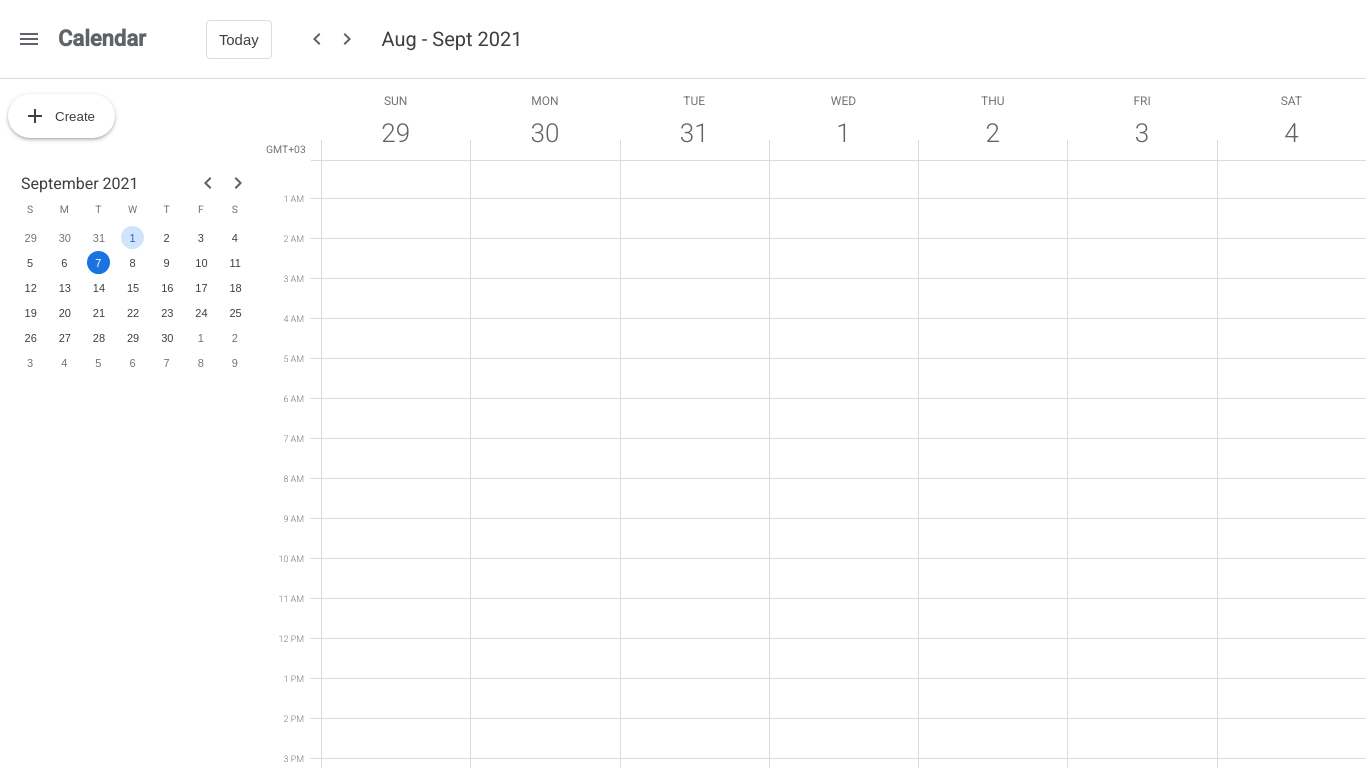
Test: App › Sidebar › should open event create modal when create button is clicked
This screenshot has width=1366, height=768.
Click the button with test id "create-button": (62, 116) 8,94 -> 115,138
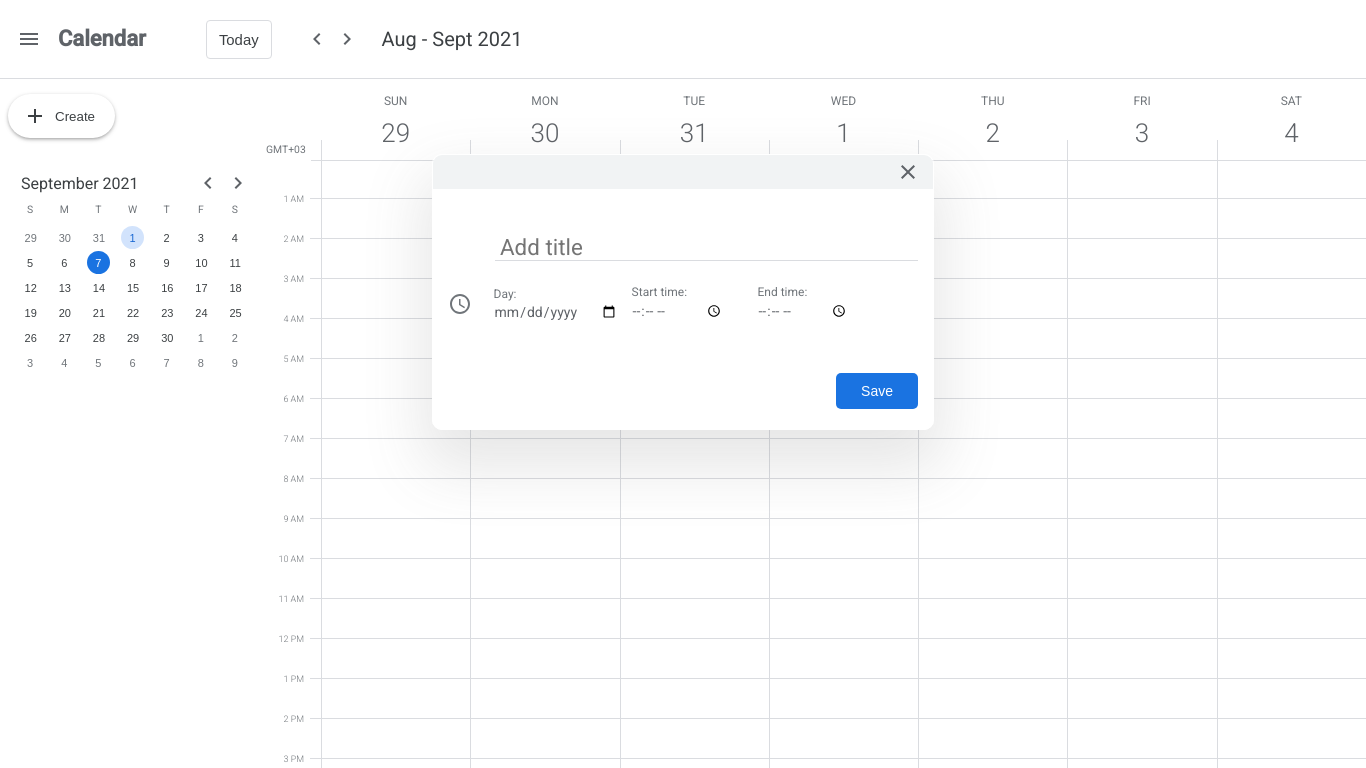
Expected: the element with test id "event-create-modal" is shown, 432,154 -> 934,430
